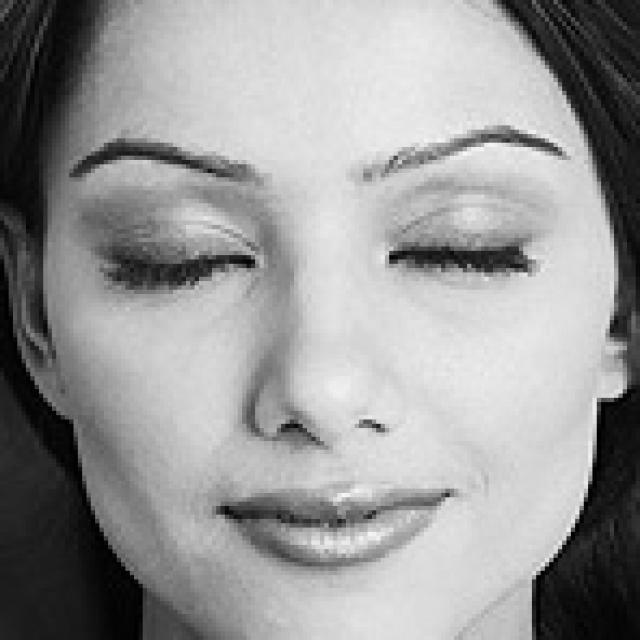real: (48, 0, 612, 640), (80, 200, 550, 325)
